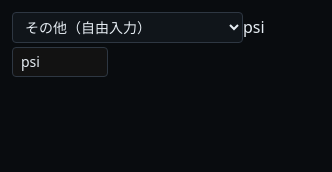
it: UnitSelect › 「その他」から候補に戻せる
The image size is (332, 172).
Select "kW（電力）" in the dropdown named "単位" at (128, 28), box [12,12,243,43]
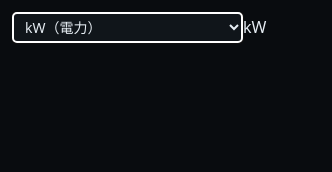
Now the text with test id "value" reads "kW", box [243,16,266,38]
Now the field is gone
